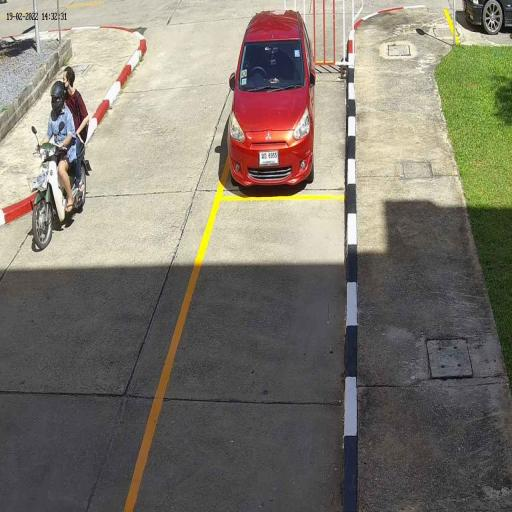car: (228, 8, 316, 190)
motorcycle: (29, 163, 90, 251)
